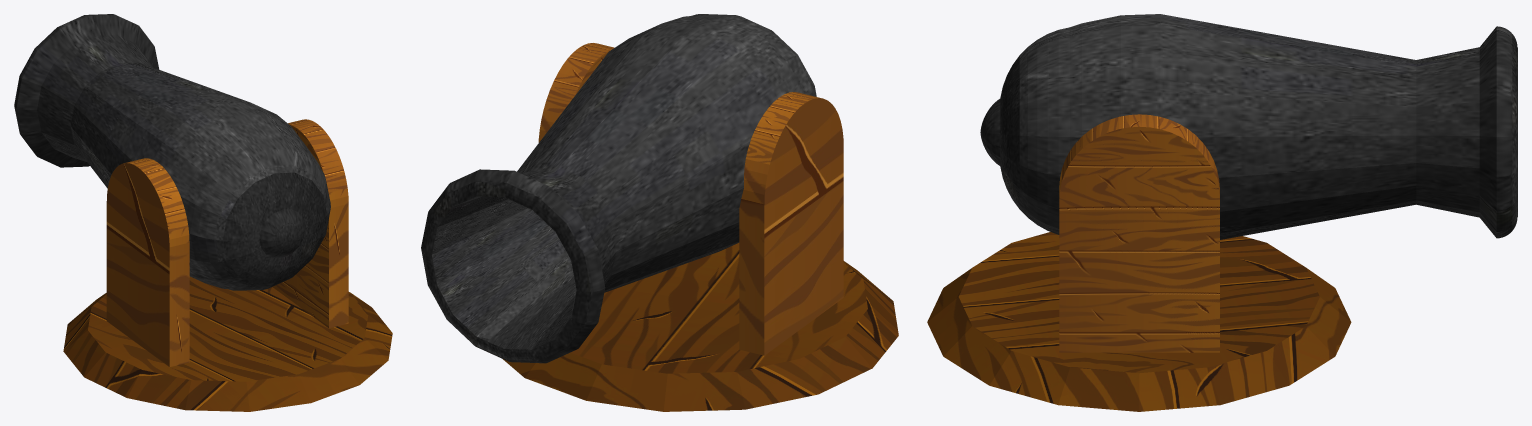
File: canon.fbx
3 renders of one model, left to right at view 1: azimuth 30°, elevation 25°; view 2: azimuth 150°, elevation 25°; view 3: azimuth 270°, elevation 25°, orthographic. The views are drawn at different scales.
Visible parts, largest first — view 1: Cube.002, Cube.001, Cube; view 2: Cube.002, Cube.001, Cylindre, Cube; view 3: Cube.002, Cube.
Boxes of the visible parts, x1=… form: Cube.002: x1=14, y1=14, x2=392, y2=411; Cube.001: x1=106, y1=158, x2=189, y2=366; Cube: x1=272, y1=119, x2=348, y2=328; Cube.002: x1=421, y1=14, x2=898, y2=411; Cube.001: x1=739, y1=92, x2=843, y2=355; Cylindre: x1=432, y1=196, x2=576, y2=349; Cube: x1=538, y1=43, x2=614, y2=142; Cube.002: x1=927, y1=14, x2=1517, y2=411; Cube: x1=1059, y1=114, x2=1219, y2=352.
Bounding box in the file's own units: 200 × 155 × 278.
